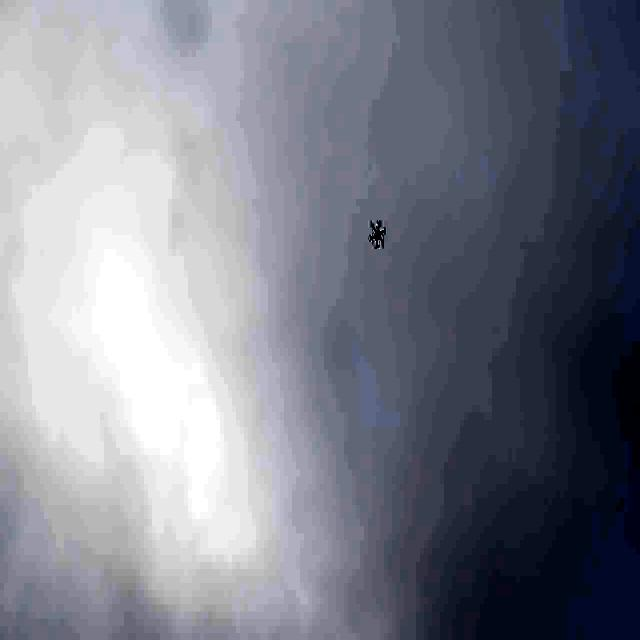drone: (369, 217, 389, 252)
